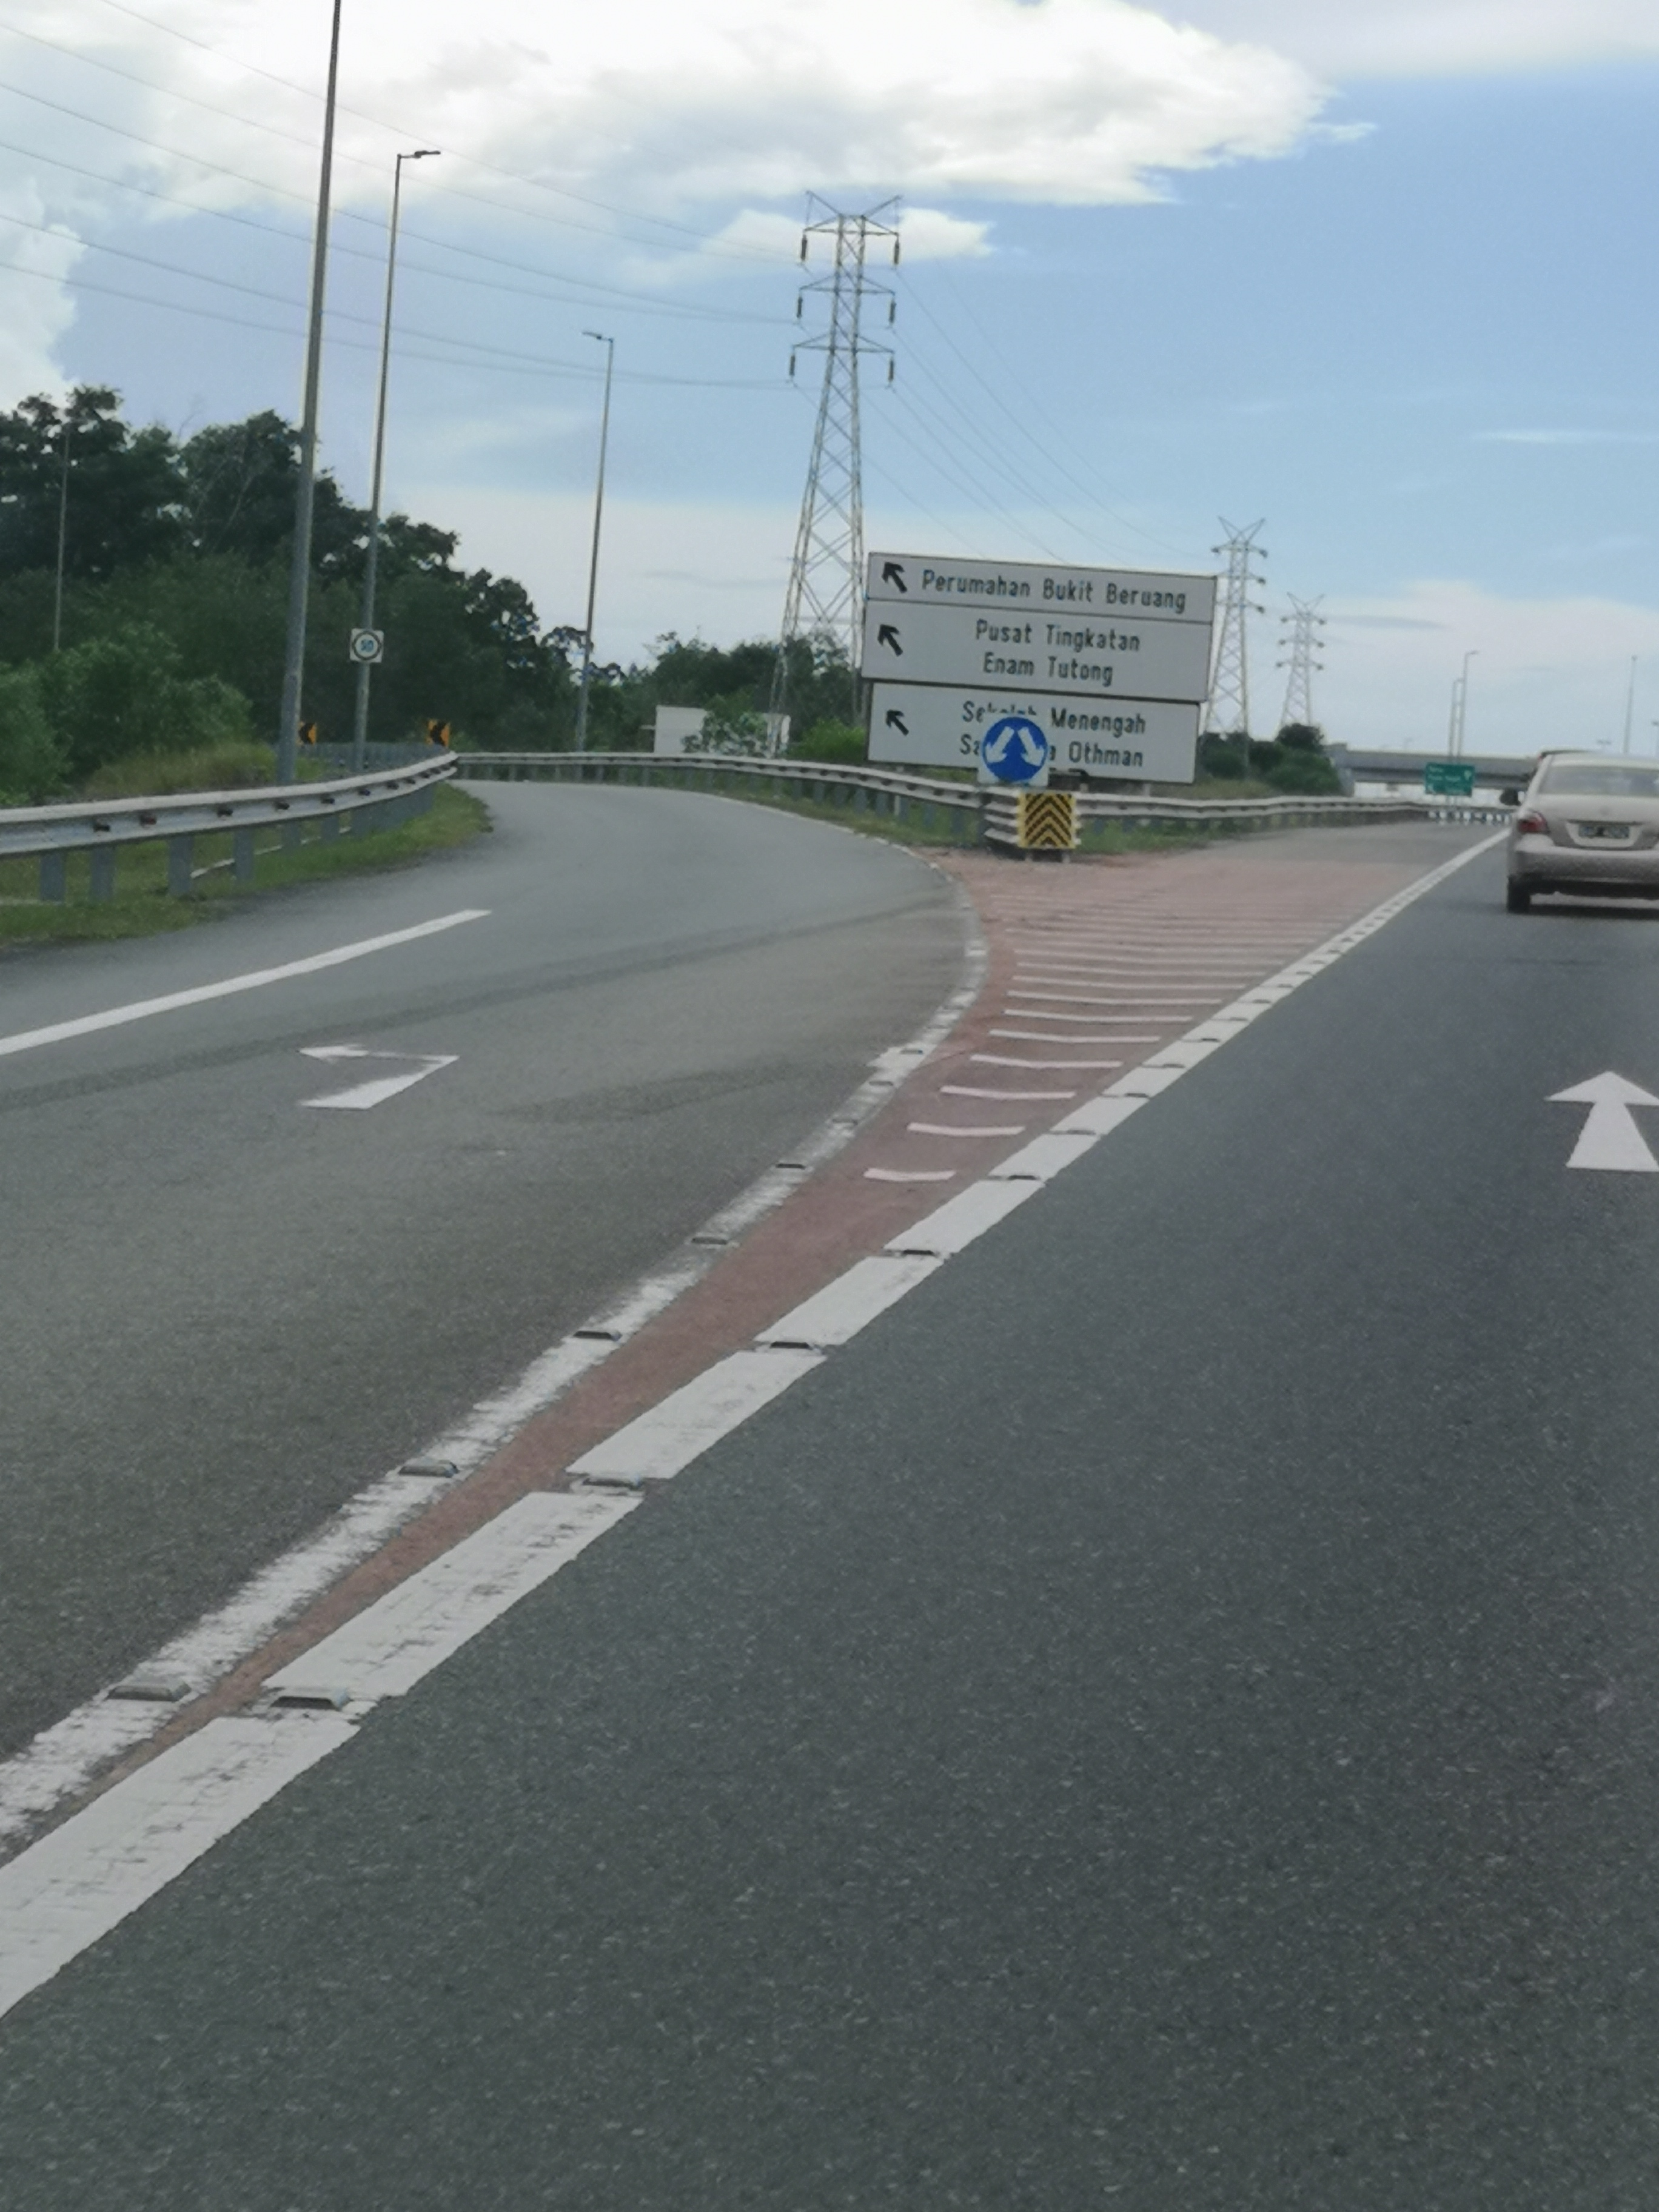pass on the left or right side: (974, 711, 1060, 796)
